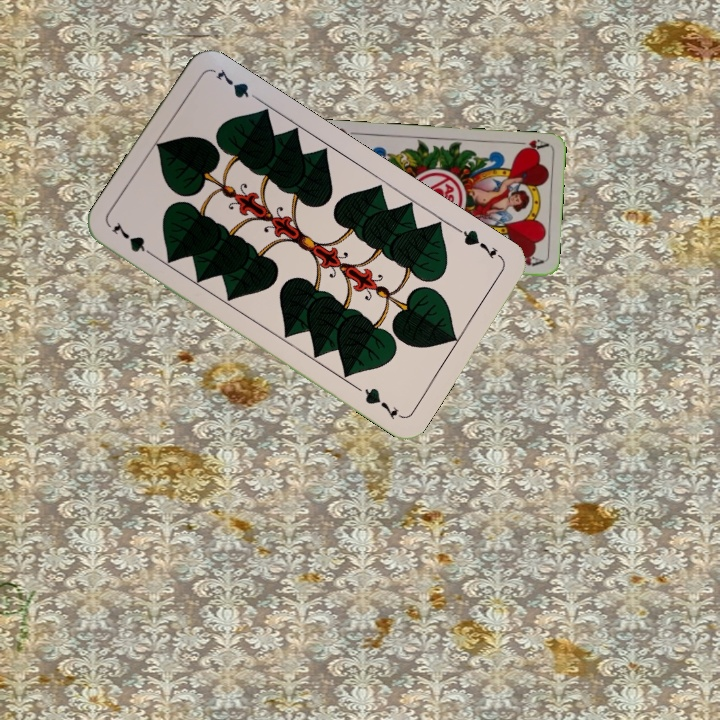G7: (108, 219, 160, 262), (453, 223, 505, 263)
HA: (509, 135, 550, 155)
